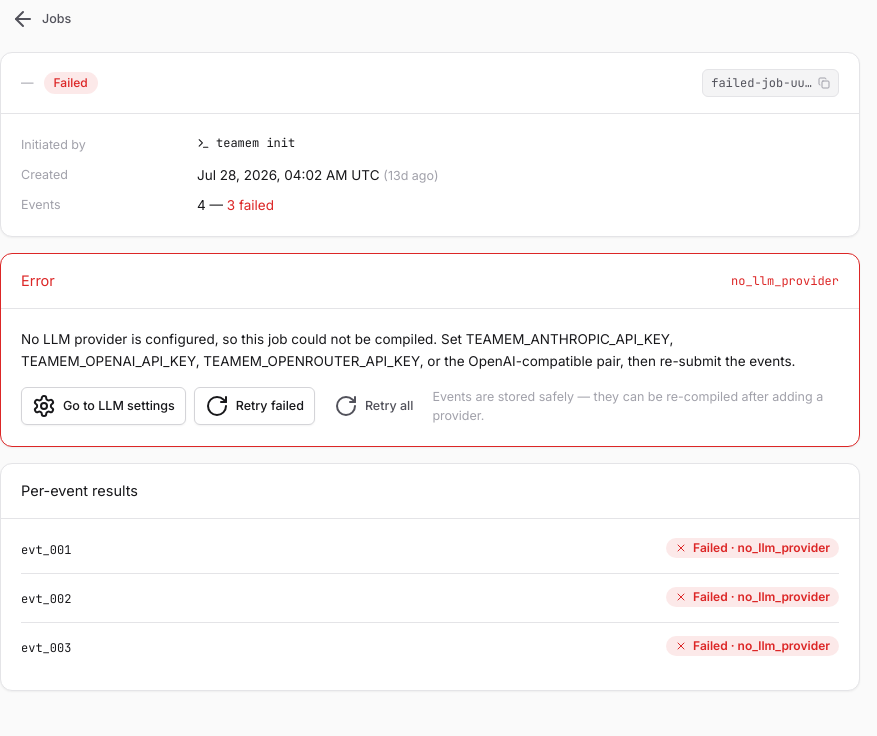
Test case: JobDetailPage › shows an error message when the retry request fails
What coordinates should you click on to do the following:
click the button "Retry failed"
I would click on:
 (254, 406)
Its box is [194,387,315,425].
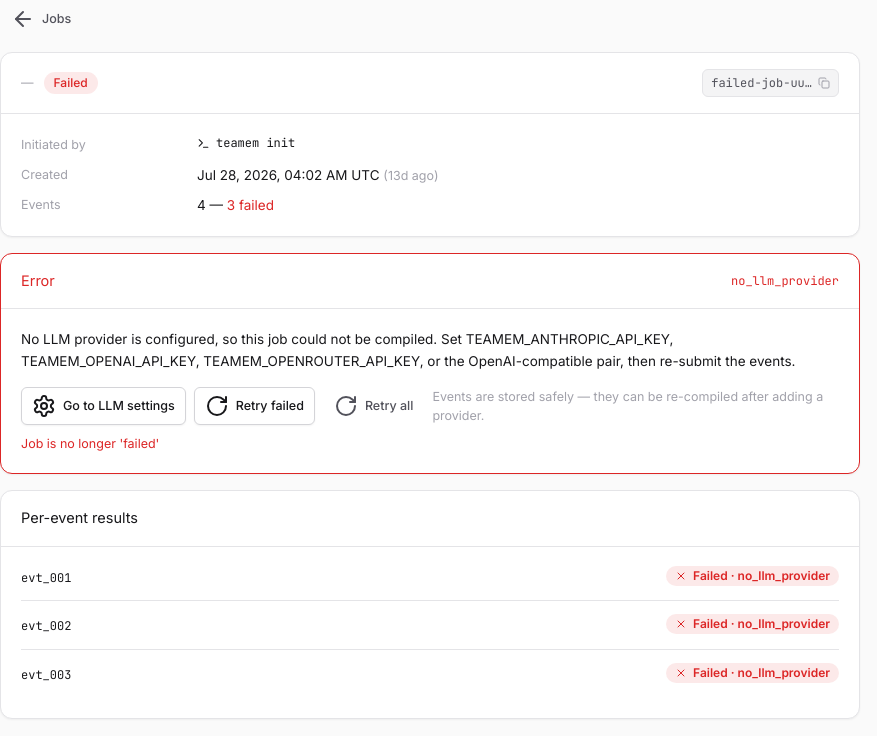
Expected: the text "Job is no longer 'failed'" is shown, [21,436,159,451]
